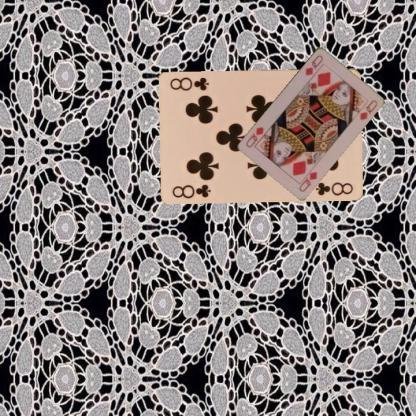8c: (170, 180, 212, 199)
Qd: (296, 164, 318, 193), (302, 52, 324, 76)
